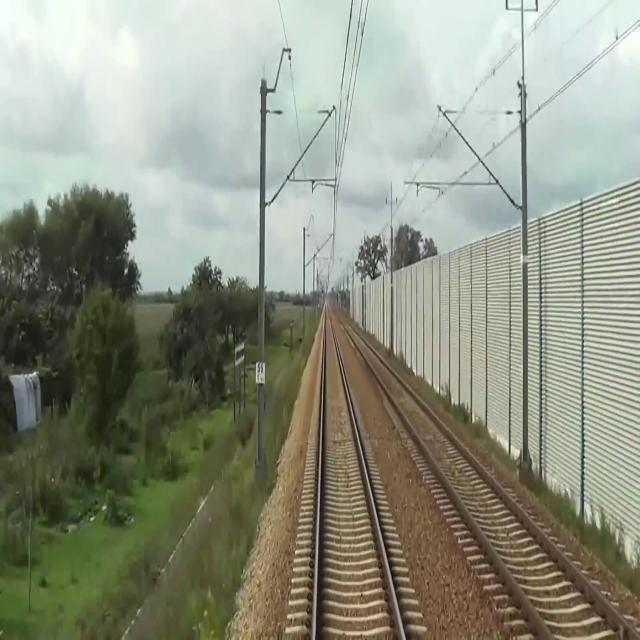rail-track: (343, 322, 634, 639), (316, 308, 402, 639)
